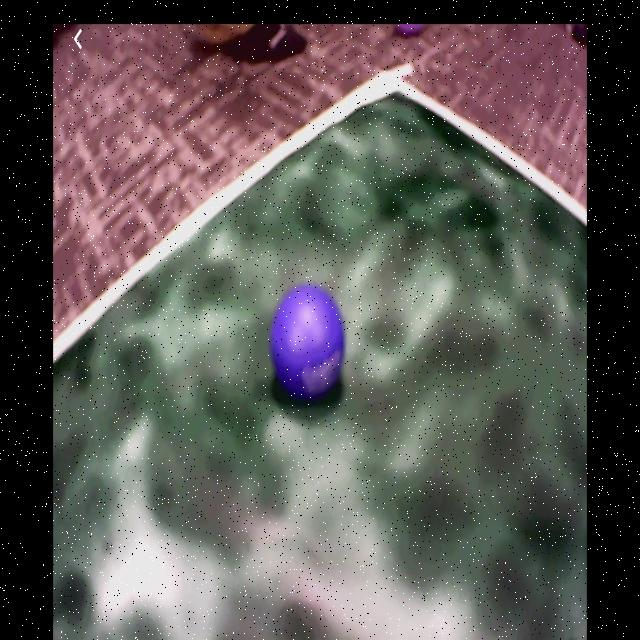ball: (272, 284, 346, 401), (393, 24, 429, 42)
